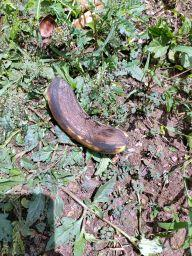banana: (45, 74, 132, 160)
